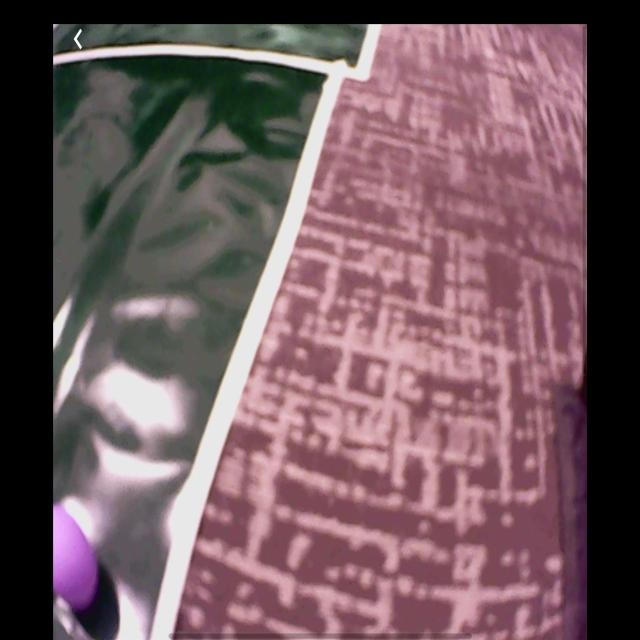ball: (55, 500, 99, 610)
